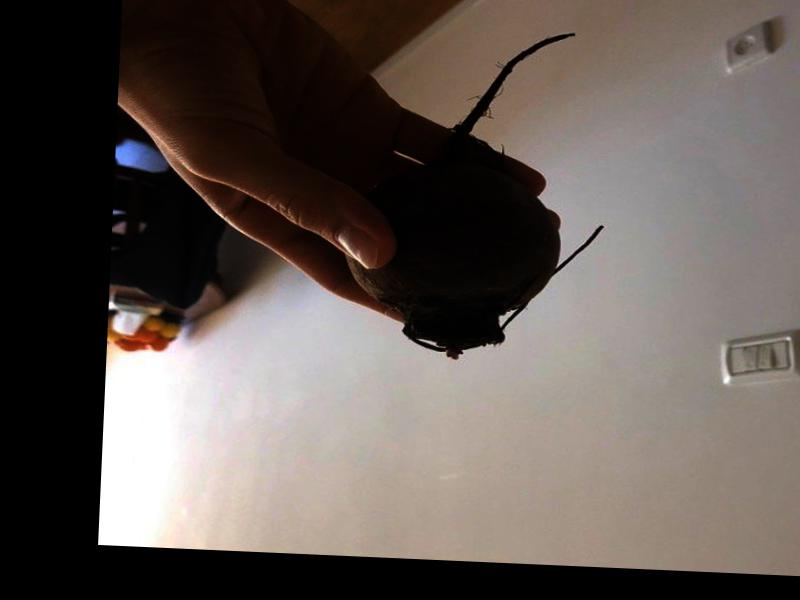Beet: (339, 22, 614, 364)
